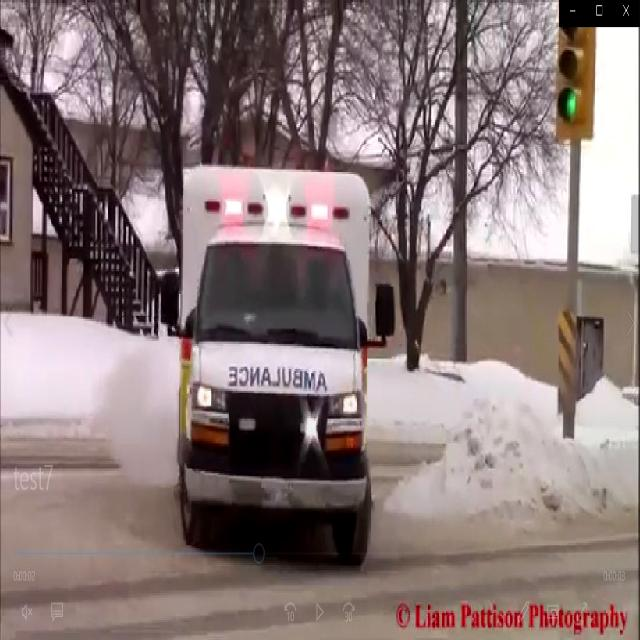emergency: (168, 161, 386, 578)
